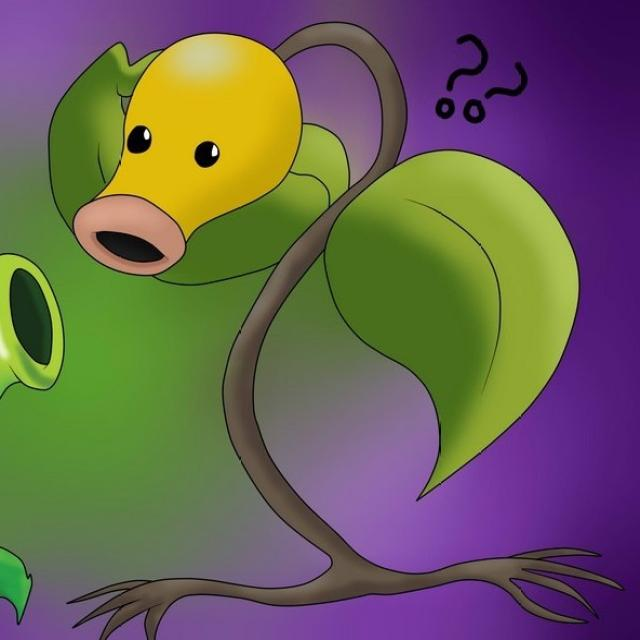Bellsprout: (76, 29, 433, 503)
